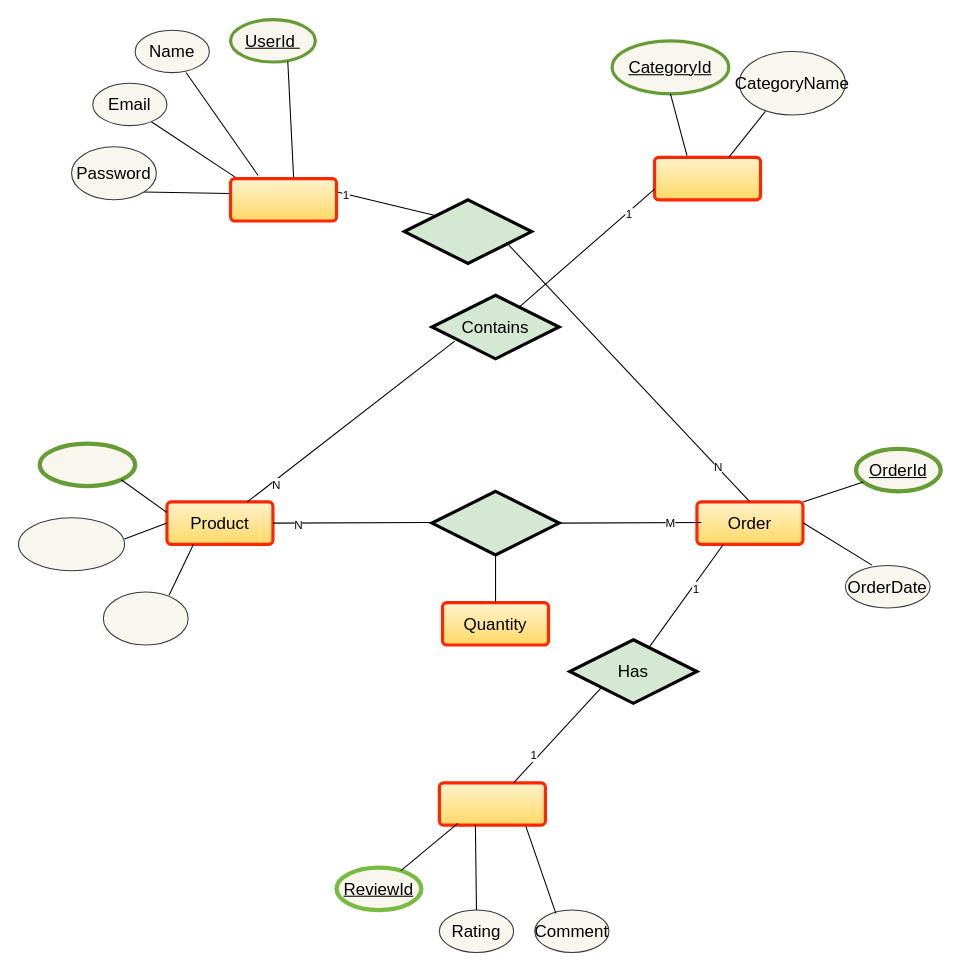
Some shapes in this 961 by 971 pixel diagram are drawn without their labels. The shapes that lost their labels are listed below. From the top down, each one's box as (x1, y1, x2, y2) in pixels, then its label:
(652, 155, 762, 201): Category
(228, 176, 338, 222): User
(402, 198, 533, 264): Places
(37, 441, 137, 488): ProductId
(430, 489, 560, 556): Includes
(17, 517, 125, 571): ProductName
(102, 591, 188, 645): Price
(437, 781, 546, 826): Review
